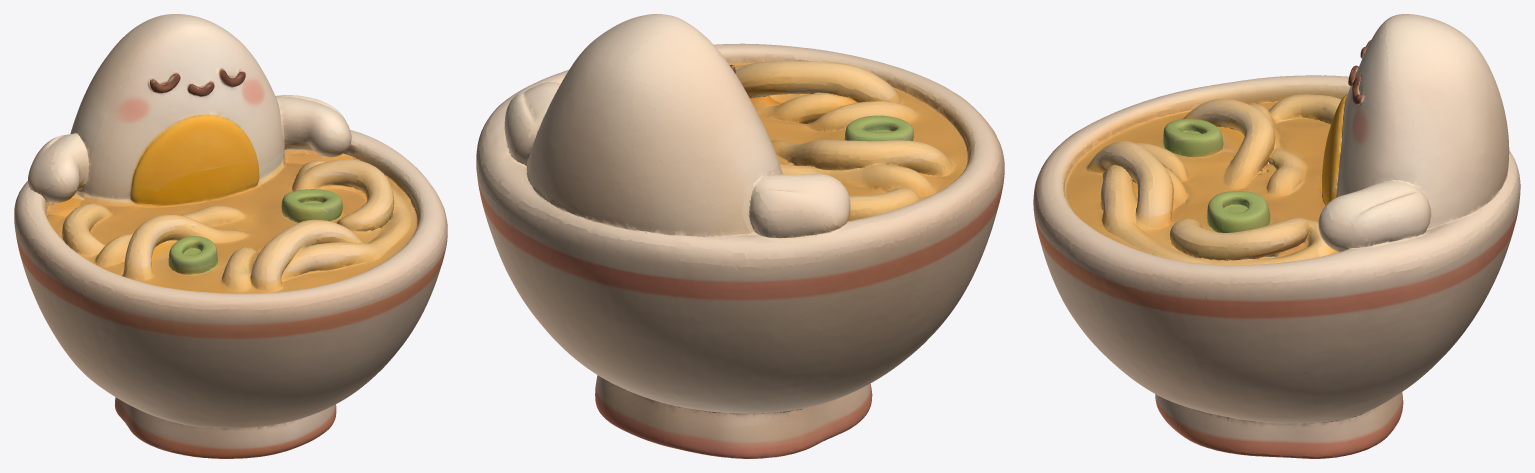
The picture shows the model from 3 angles, left to right: view 1: azimuth 30°, elevation 25°; view 2: azimuth 150°, elevation 25°; view 3: azimuth 270°, elevation 25°; orthographic projection. The views are drawn at different scales.
Parts seen in each view (by area): view 1: geometry_0; view 2: geometry_0; view 3: geometry_0.
Part boxes in pixels (box(x1,y1,x2,y2)): geometry_0: box(14, 14, 447, 458); geometry_0: box(476, 14, 1004, 458); geometry_0: box(1033, 14, 1520, 458).
Size of the model in its own units: 0.09 by 0.0814 by 0.0913.
Materials: 1 (1 with a texture image).
